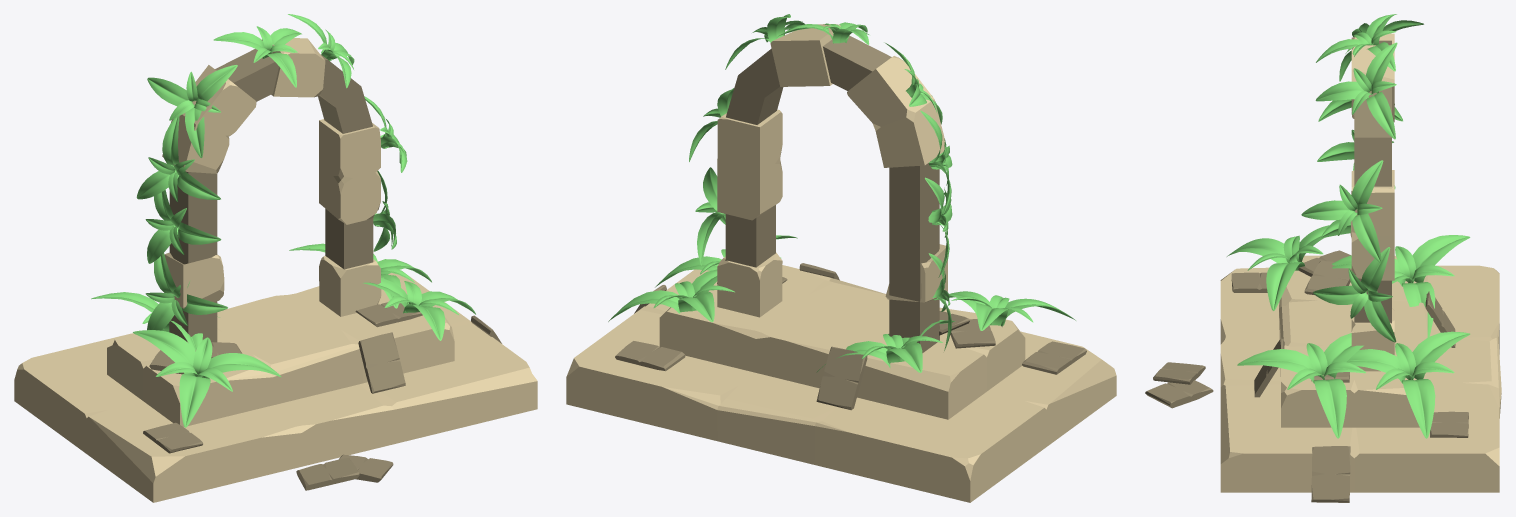
The model's file is Портал-End-Без-фона.fbx.
The picture shows the model from 3 angles, left to right: view 1: azimuth 30°, elevation 25°; view 2: azimuth 150°, elevation 25°; view 3: azimuth 270°, elevation 25°; orthographic projection. The views are drawn at different scales.
Parts seen in each view (by area): view 1: Основание ниже, Кирпичи, Арка, Растение, Растение.008, Растение.010, Растение.011, Растение.009, Растение.003, Плитка.005, Растение.007, Плитка.008 (+8 smaller); view 2: Основание ниже, Кирпичи, Арка, Плитка.006, Растение.001, Растение.004, Растение, Плитка.007, Плитка.003, Растение.006, Плитка, Растение.007 (+6 smaller); view 3: Основание ниже, Кирпичи, Растение.001, Растение.003, Арка, Растение.004, Растение.005, Растение, Растение.006, Растение.002, Плитка.004, Растение.007 (+11 smaller).
Boxes of the visible parts, x1,y1,x2,y2 form: Основание ниже: (14,272,537,502); Кирпичи: (162,38,381,316); Арка: (169,49,373,342); Растение: (133,330,281,427); Растение.008: (147,65,237,157); Растение.010: (136,116,220,201); Растение.011: (145,253,227,330); Растение.009: (145,190,221,263); Растение.003: (362,277,475,340); Плитка.005: (358,332,405,393); Растение.007: (213,26,301,87); Плитка.008: (296,458,359,490); Основание ниже: (566,265,1116,502); Кирпичи: (717,24,947,317); Арка: (725,35,939,353); Плитка.006: (816,346,867,410); Растение.001: (608,269,734,322); Растение.004: (816,320,955,372); Растение: (949,291,1075,330); Плитка.007: (615,341,685,371); Плитка.003: (1022,341,1086,374); Растение.006: (695,167,725,265); Плитка: (950,319,995,348); Растение.007: (778,22,869,44); Основание ниже: (1220,255,1501,492); Кирпичи: (1350,33,1394,371); Растение.001: (1346,331,1470,438); Растение.003: (1237,333,1365,438); Арка: (1354,40,1391,323); Растение.004: (1332,235,1470,337); Растение.005: (1301,160,1383,262); Растение: (1227,225,1329,310); Растение.006: (1313,247,1396,342); Растение.002: (1315,42,1397,139); Плитка.004: (1311,446,1350,502); Растение.007: (1316,14,1396,71).
Bounding box in the file's own units: 644 × 559 × 486.
